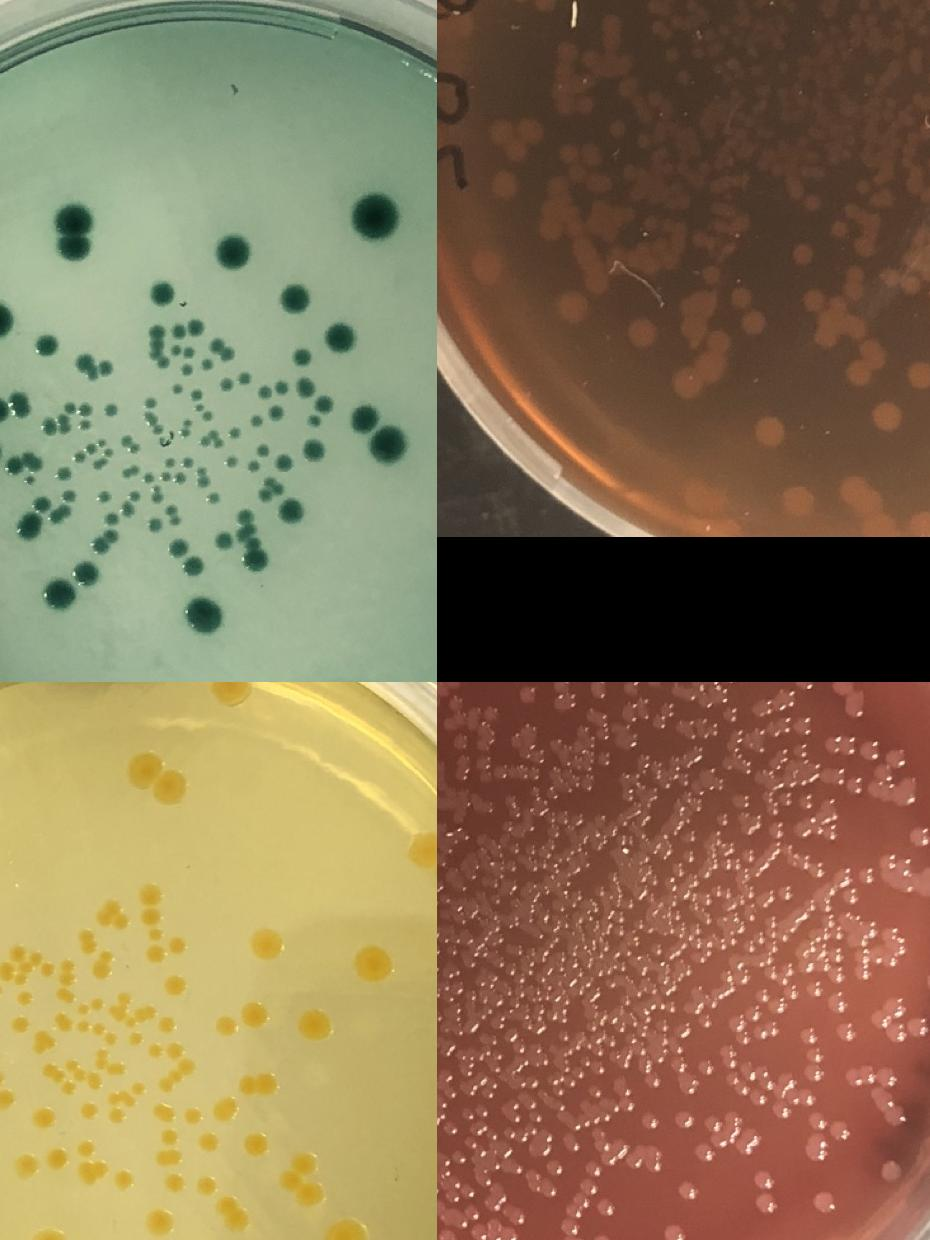assalmonicida: (801, 277, 868, 347), (488, 116, 540, 199), (558, 136, 612, 194), (836, 473, 884, 520), (846, 344, 888, 387), (868, 398, 900, 430), (782, 488, 814, 520), (672, 365, 704, 397), (626, 317, 658, 349), (558, 290, 590, 322), (473, 250, 505, 282), (728, 282, 752, 310), (742, 307, 766, 334), (757, 417, 781, 443), (790, 240, 813, 266), (490, 118, 512, 144), (909, 510, 930, 537), (909, 361, 930, 387), (826, 217, 848, 240), (803, 191, 825, 214), (540, 217, 562, 240), (708, 329, 732, 350), (898, 273, 920, 295), (854, 238, 876, 260), (852, 173, 874, 195), (842, 199, 864, 221), (586, 271, 608, 293), (547, 174, 569, 196), (700, 262, 722, 282), (534, 0, 557, 10)
pddamselae: (344, 400, 412, 465), (54, 204, 90, 262), (353, 194, 398, 238), (213, 520, 259, 552), (322, 319, 358, 353), (278, 283, 314, 317), (216, 235, 252, 269), (186, 598, 222, 632), (42, 578, 78, 612), (148, 326, 170, 369), (89, 528, 118, 556), (243, 536, 266, 570), (191, 389, 214, 421), (198, 429, 226, 448), (280, 500, 303, 522), (210, 339, 234, 360), (312, 393, 334, 415), (304, 438, 326, 460), (294, 376, 316, 398), (291, 345, 313, 367), (183, 555, 205, 577), (166, 537, 188, 559), (151, 280, 173, 302), (74, 561, 96, 583), (35, 334, 57, 356), (17, 517, 39, 539), (8, 392, 30, 414), (273, 454, 295, 475), (0, 301, 13, 336), (84, 436, 106, 455), (121, 434, 141, 454), (49, 504, 69, 524), (262, 476, 284, 494), (146, 414, 164, 435), (160, 470, 184, 485), (20, 454, 42, 470), (120, 463, 142, 478), (166, 504, 180, 526), (195, 466, 209, 487), (179, 418, 194, 437), (56, 413, 70, 433), (34, 496, 50, 512), (151, 485, 163, 504), (206, 491, 220, 503), (188, 321, 202, 333), (170, 381, 184, 393), (170, 324, 184, 336), (148, 518, 162, 530), (120, 503, 134, 515), (103, 511, 117, 523), (102, 446, 116, 458), (98, 360, 112, 372), (92, 458, 106, 470), (78, 357, 92, 369), (42, 421, 56, 433), (308, 414, 321, 426), (249, 415, 262, 427), (57, 467, 70, 479), (276, 381, 288, 393), (270, 405, 282, 417), (258, 490, 270, 502), (258, 386, 270, 398), (258, 443, 270, 455), (247, 460, 259, 472), (238, 372, 250, 384), (229, 426, 241, 438), (224, 456, 236, 468), (220, 378, 232, 390), (201, 357, 213, 369), (183, 345, 195, 357), (180, 455, 192, 467), (180, 363, 192, 375), (169, 343, 181, 355), (164, 456, 176, 468), (141, 472, 153, 484), (128, 489, 140, 501), (104, 403, 116, 415), (98, 491, 110, 503), (87, 369, 99, 381), (78, 419, 90, 431), (78, 404, 90, 416), (73, 450, 85, 462), (64, 402, 76, 414), (63, 490, 75, 502), (23, 474, 35, 486), (145, 396, 156, 408), (0, 397, 5, 419)
vangil: (728, 985, 789, 1049), (561, 1157, 602, 1240), (696, 1108, 744, 1162), (871, 996, 907, 1042), (825, 734, 880, 760), (828, 765, 866, 795), (846, 1064, 896, 1086), (872, 748, 904, 782), (832, 682, 863, 717), (881, 926, 907, 967), (450, 1132, 479, 1166), (878, 852, 914, 876), (651, 700, 677, 730), (806, 1046, 825, 1082), (437, 682, 462, 709), (854, 947, 872, 983), (766, 714, 794, 737), (897, 777, 917, 804), (918, 860, 930, 896), (854, 864, 874, 884), (814, 1190, 834, 1210), (698, 1057, 718, 1077), (678, 1179, 698, 1199), (641, 1110, 661, 1130), (596, 1196, 616, 1216), (538, 1178, 558, 1198), (910, 828, 930, 847), (886, 1106, 905, 1126), (881, 1160, 900, 1180), (836, 1021, 856, 1040), (828, 992, 848, 1011), (910, 1014, 928, 1034), (832, 1118, 850, 1138), (808, 1132, 828, 1150), (808, 1112, 828, 1130), (776, 884, 796, 902), (776, 790, 796, 808), (758, 1194, 776, 1214), (754, 1169, 772, 1189), (676, 1109, 694, 1129), (457, 1180, 476, 1198), (840, 885, 858, 903), (800, 1024, 818, 1042), (800, 1088, 818, 1106), (797, 792, 815, 810), (793, 820, 811, 838), (772, 1100, 790, 1118), (754, 697, 772, 715), (751, 1086, 769, 1104), (736, 758, 754, 776), (732, 791, 750, 809), (594, 725, 612, 743), (461, 1203, 479, 1221), (437, 1066, 455, 1084), (664, 1224, 684, 1240), (769, 820, 786, 838), (722, 705, 740, 722), (714, 809, 732, 826), (681, 1078, 698, 1096), (620, 704, 638, 721), (545, 1156, 562, 1174), (471, 1222, 488, 1240), (590, 682, 610, 697), (780, 1072, 798, 1088), (452, 732, 470, 748), (444, 1120, 462, 1136), (623, 682, 641, 696), (502, 1226, 520, 1240), (438, 1227, 457, 1240), (551, 682, 571, 694), (795, 682, 818, 690), (593, 1231, 612, 1240), (598, 752, 612, 764), (622, 790, 634, 802), (520, 747, 532, 759), (455, 711, 467, 723), (645, 682, 665, 688)
vharveyi: (127, 752, 186, 802), (278, 1150, 322, 1206), (8, 944, 44, 985), (411, 833, 437, 885), (141, 1204, 176, 1240), (214, 1194, 248, 1230), (354, 946, 389, 980), (249, 926, 284, 960), (160, 1057, 196, 1089), (107, 1004, 156, 1027), (301, 1007, 334, 1041), (96, 898, 129, 930), (238, 1072, 278, 1096), (140, 884, 162, 924), (212, 682, 250, 704), (96, 1048, 126, 1074), (0, 1064, 16, 1110), (328, 1221, 363, 1240), (162, 972, 186, 997), (155, 1148, 184, 1168), (244, 1132, 268, 1156), (242, 1003, 266, 1027), (214, 1013, 238, 1037), (16, 1153, 40, 1177), (108, 1088, 136, 1108), (92, 951, 112, 978), (46, 1144, 68, 1168), (33, 1030, 56, 1052), (80, 1162, 108, 1180), (35, 1104, 56, 1128), (79, 928, 96, 954), (66, 1060, 86, 1081), (31, 1229, 66, 1240), (43, 1063, 64, 1081), (154, 1103, 174, 1121), (214, 1102, 232, 1120), (200, 1176, 218, 1194), (200, 1132, 218, 1150), (183, 1105, 201, 1123), (169, 936, 187, 954), (166, 1174, 184, 1192), (166, 1040, 184, 1058), (160, 1127, 178, 1145), (158, 1015, 176, 1033), (147, 945, 165, 963), (126, 1029, 144, 1047), (114, 1170, 132, 1188), (108, 1105, 126, 1123), (80, 1100, 98, 1118), (76, 1140, 94, 1158), (58, 986, 76, 1003), (16, 989, 34, 1005), (11, 1016, 28, 1032), (0, 962, 14, 980), (57, 1016, 72, 1032), (62, 1079, 76, 1095), (104, 1032, 118, 1044), (90, 997, 104, 1009), (76, 1021, 90, 1033), (40, 962, 54, 974), (150, 929, 162, 941), (150, 1044, 162, 1056), (132, 1082, 144, 1094), (118, 992, 130, 1004), (93, 1023, 105, 1035), (89, 1076, 101, 1088), (78, 1002, 90, 1014), (62, 959, 74, 971)
